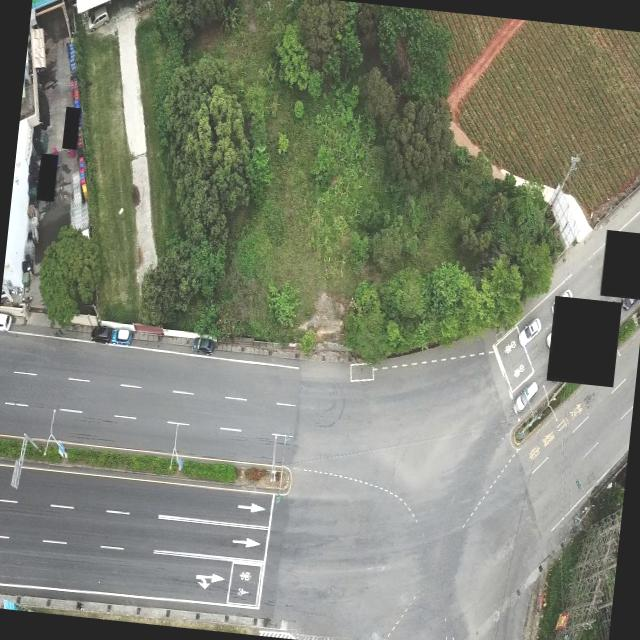car: (512, 379, 538, 415), (517, 315, 542, 349), (86, 6, 110, 33), (190, 335, 217, 355), (110, 326, 133, 346), (90, 323, 110, 343), (0, 311, 12, 331)
